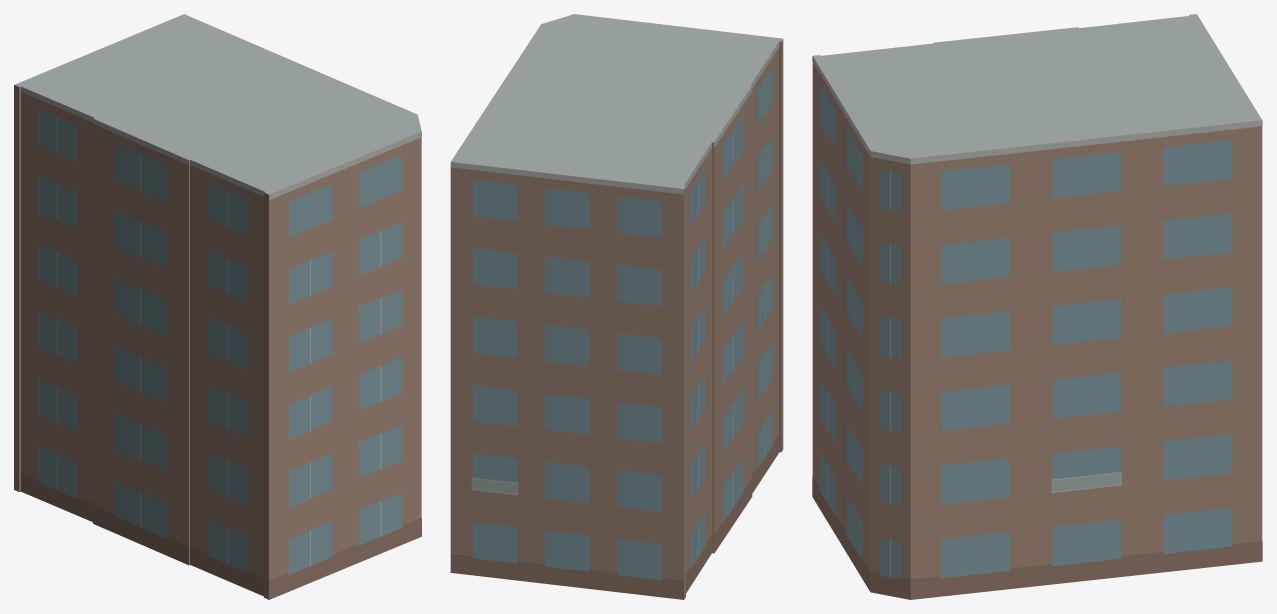
File: survey-upis-32710396.glb
3 views of the same model, side by side, from view 1: azimuth 30°, elevation 25°; view 2: azimuth 150°, elevation 25°; view 3: azimuth 270°, elevation 25° (orthographic). The views are drawn at different scales.
Parts seen in each view (by area): view 1: survey-upis-32710396.tmp; view 2: survey-upis-32710396.tmp; view 3: survey-upis-32710396.tmp.
Boxes of the visible parts, x1,y1,x2,y2 form: survey-upis-32710396.tmp: (14,14,421,599); survey-upis-32710396.tmp: (450,14,783,599); survey-upis-32710396.tmp: (812,14,1262,599).
Size of the model in its own units: 12.85 by 18.25 by 16.88.
